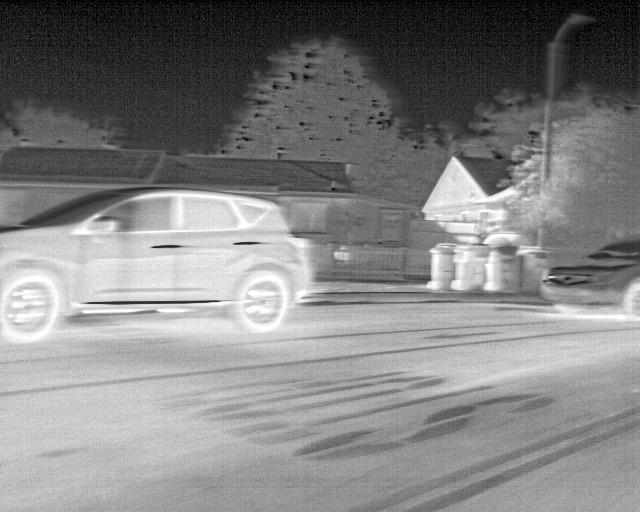car: (0, 183, 314, 343), (539, 239, 639, 326)
